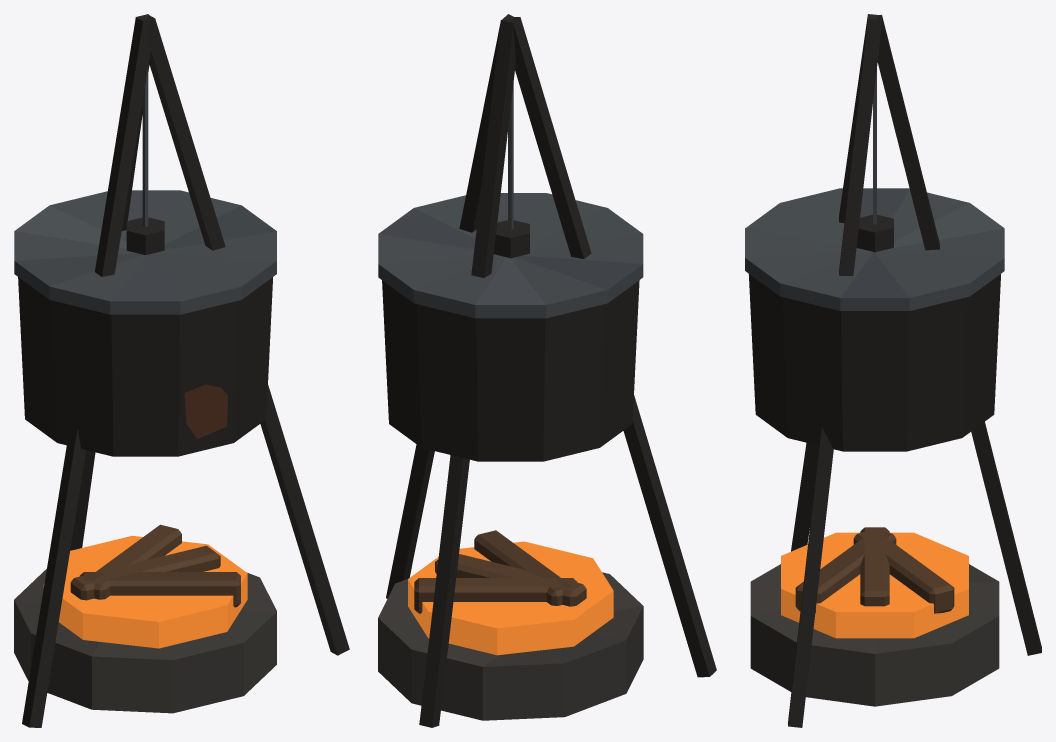
File: water_purifier_kipyachenie_na_pechi_idle.glb
The picture shows the model from 3 angles, left to right: view 1: azimuth 30°, elevation 25°; view 2: azimuth 150°, elevation 25°; view 3: azimuth 270°, elevation 25°; orthographic projection. The views are drawn at different scales.
Visible parts, largest first — view 1: water_purifier_kipyachenie_na_pechi_idle; view 2: water_purifier_kipyachenie_na_pechi_idle; view 3: water_purifier_kipyachenie_na_pechi_idle.
Boxes of the visible parts, x1,y1,x2,y2 form: water_purifier_kipyachenie_na_pechi_idle: [14, 14, 349, 727]; water_purifier_kipyachenie_na_pechi_idle: [378, 14, 716, 727]; water_purifier_kipyachenie_na_pechi_idle: [745, 14, 1041, 727].
Bounding box in the file's own units: 0.5044 × 0.967 × 0.4083.
2 materials, 2 textured.
